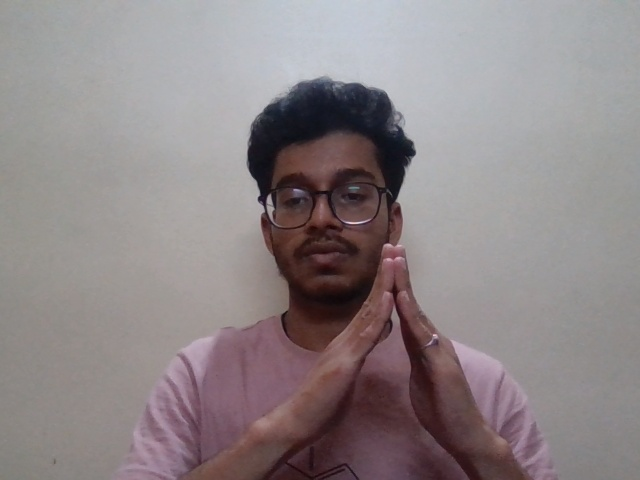home: (289, 243, 506, 441)
